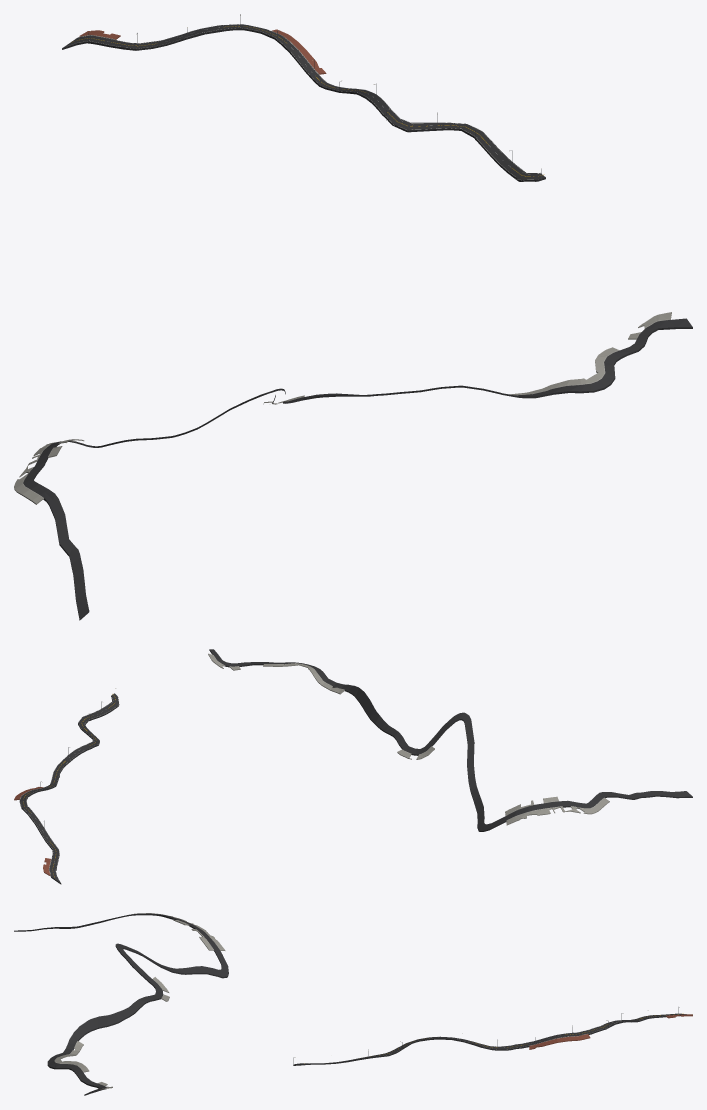
Rendered from 16-54702-29742.ceaa1691.glb.
3 views of the same model, one above another, from view 1: azimuth 30°, elevation 25°; view 2: azimuth 150°, elevation 25°; view 3: azimuth 270°, elevation 25° (orthographic). The views are drawn at different scales.
Bounding box in the file's own units: 467 × 107 × 583.
